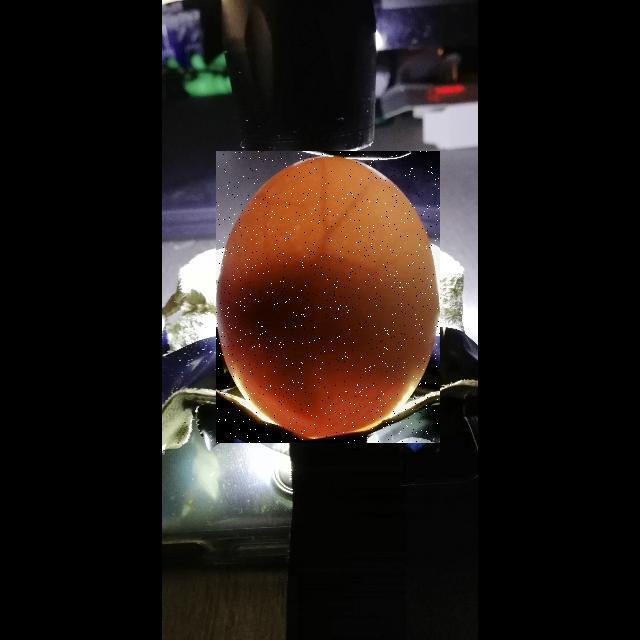Fertile: (216, 151, 440, 443)
